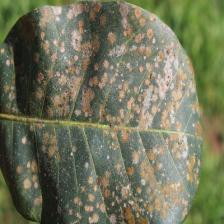red rust: (0, 0, 203, 223)
